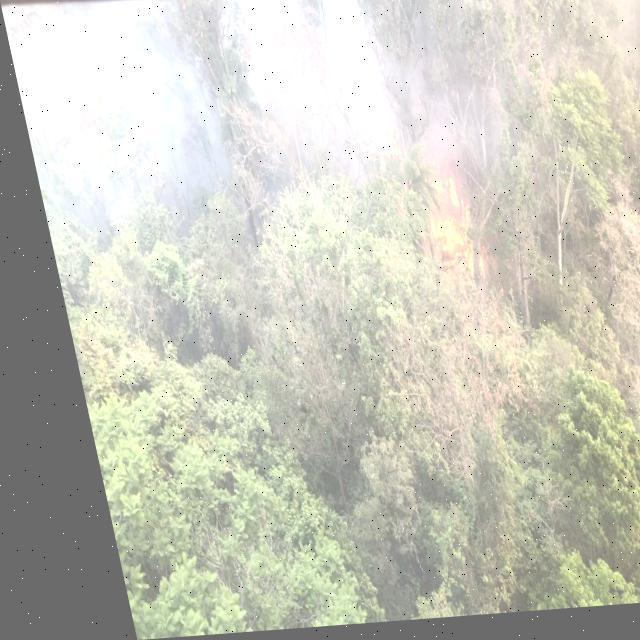Fire: (412, 160, 469, 276), (366, 100, 394, 161)
